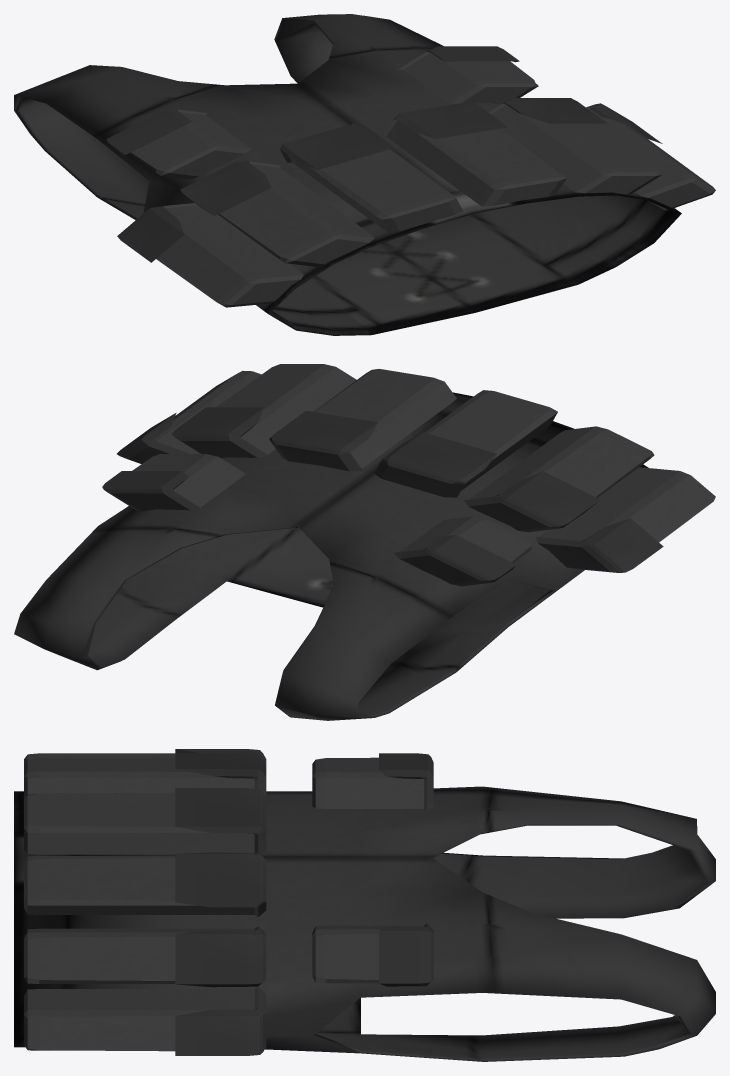
Rendered from XOFAssaultVest_WorldItem.fbx.
The picture shows the model from 3 angles, top to bottom: view 1: azimuth 30°, elevation 25°; view 2: azimuth 150°, elevation 25°; view 3: azimuth 270°, elevation 25°; orthographic projection. The views are drawn at different scales.
Parts seen in each view (by area): view 1: Cube.004_Cube.009; view 2: Cube.004_Cube.009; view 3: Cube.004_Cube.009.
Part boxes in pixels (bbox=[...]): Cube.004_Cube.009: bbox=[14, 14, 715, 335]; Cube.004_Cube.009: bbox=[14, 364, 715, 720]; Cube.004_Cube.009: bbox=[14, 749, 715, 1061].
Bounding box in the file's own units: 0.6789 × 0.156 × 0.683.
